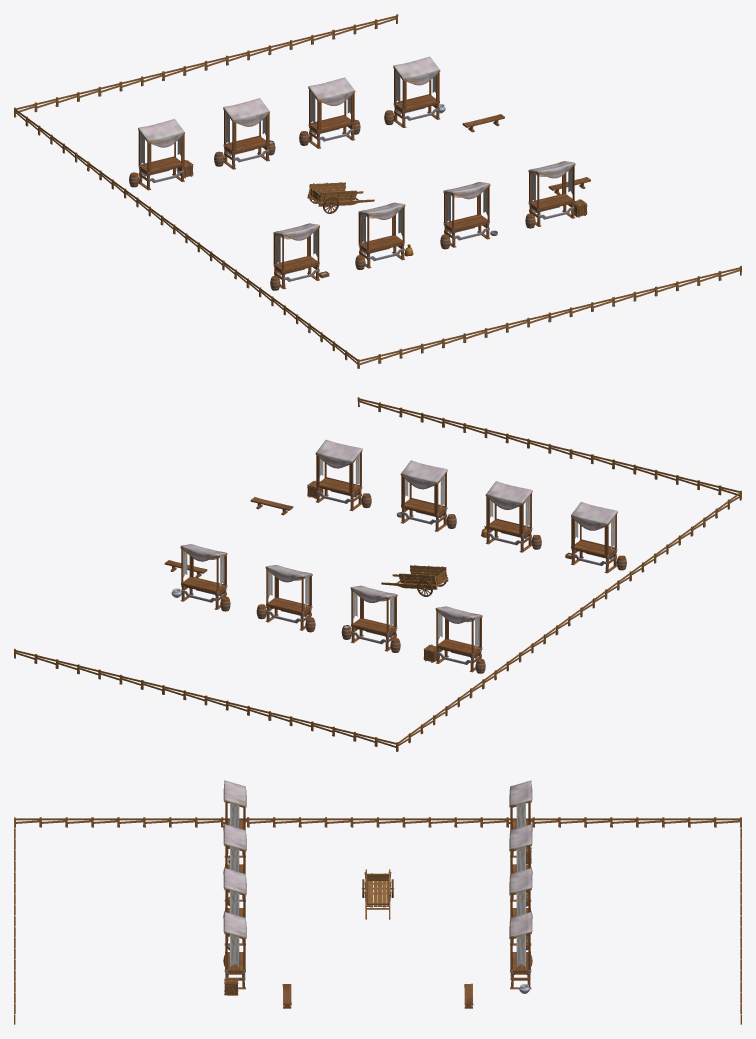
Rendered from plaza.gltf.
3 views of the same model, one above another, from view 1: azimuth 30°, elevation 25°; view 2: azimuth 150°, elevation 25°; view 3: azimuth 270°, elevation 25° (orthographic). The views are drawn at different scales.
Visible parts, largest first — view 1: plaza; view 2: plaza; view 3: plaza.
Boxes of the visible parts, x1,y1,x2,y2 form: plaza: (14,14,741,368); plaza: (14,397,741,751); plaza: (14,780,741,1024).
Bounding box in the file's own units: 36.09 × 5.06 × 56.12.
7 materials, 7 textured.
